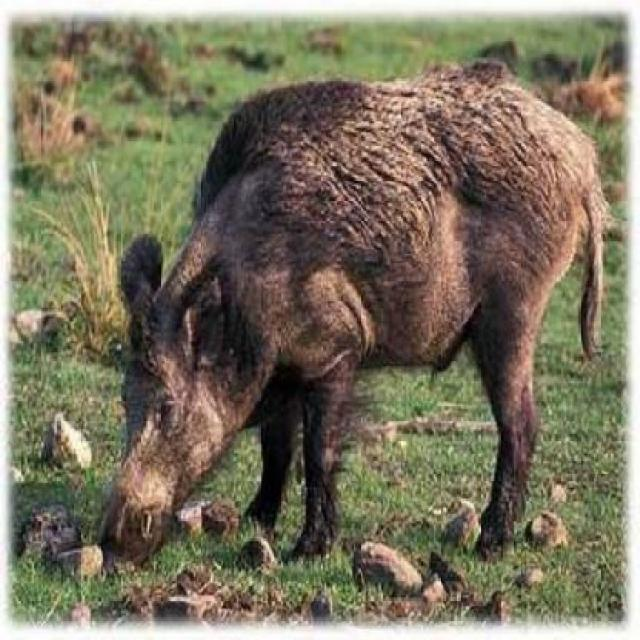pig: (89, 51, 631, 601)
